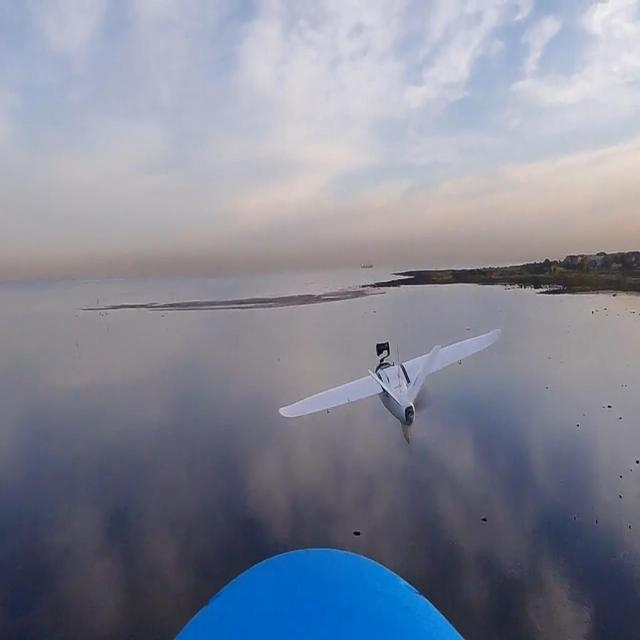iha: (270, 352, 504, 407)
